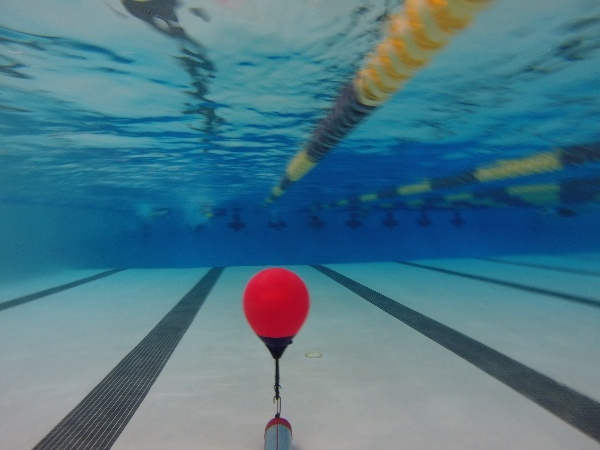buoy_red: (236, 266, 318, 364)
